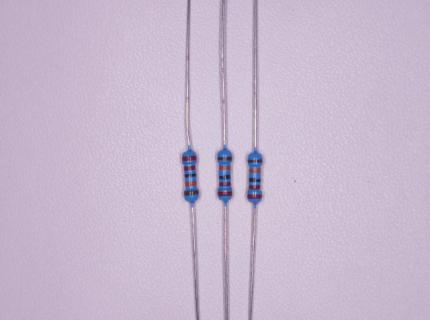Black band: (219, 174, 231, 180), (249, 177, 261, 182), (184, 173, 196, 178)
Brown band: (184, 190, 198, 196), (217, 156, 232, 161), (248, 158, 262, 163)
Orange band: (219, 165, 231, 170), (185, 181, 197, 186), (249, 168, 261, 172)
Red band: (182, 155, 197, 162), (247, 194, 262, 199), (184, 166, 196, 172), (218, 192, 232, 196), (219, 182, 231, 186), (249, 185, 261, 189)
